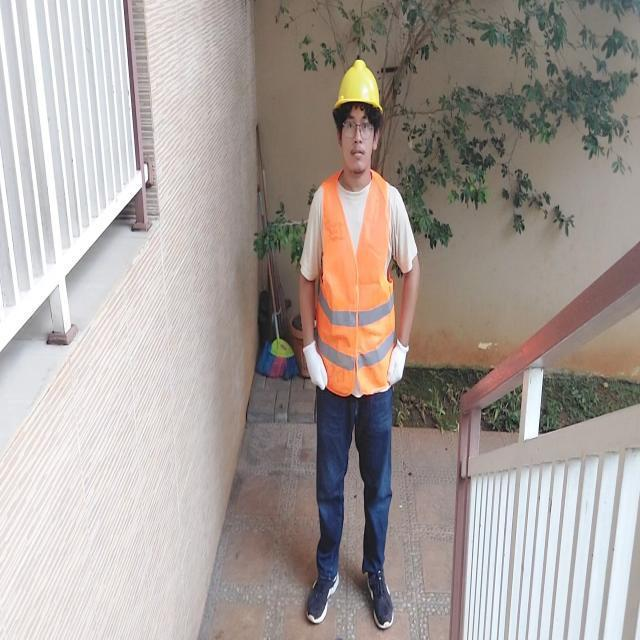Capacete: (334, 59, 382, 111)
Colete: (316, 171, 394, 395)
Pessoa: (300, 59, 419, 628)
